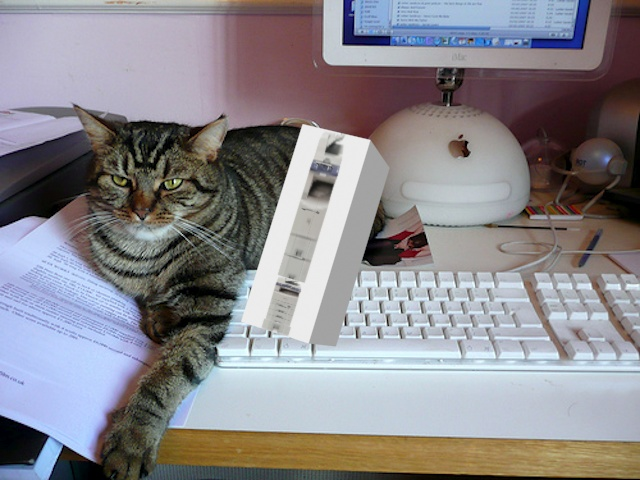file_cabinet: (241, 121, 392, 352)
